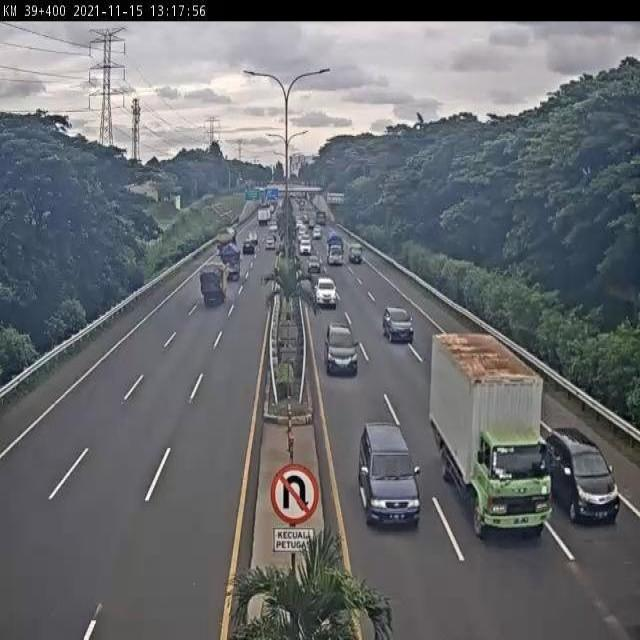Car: (544, 429, 620, 524), (357, 421, 420, 527), (324, 319, 359, 376), (381, 306, 415, 346), (314, 277, 338, 308), (307, 254, 321, 274), (348, 244, 362, 264), (299, 238, 312, 255), (266, 234, 276, 250), (313, 226, 322, 240)
Truck: (431, 331, 552, 535), (200, 263, 225, 307), (326, 233, 344, 266)
